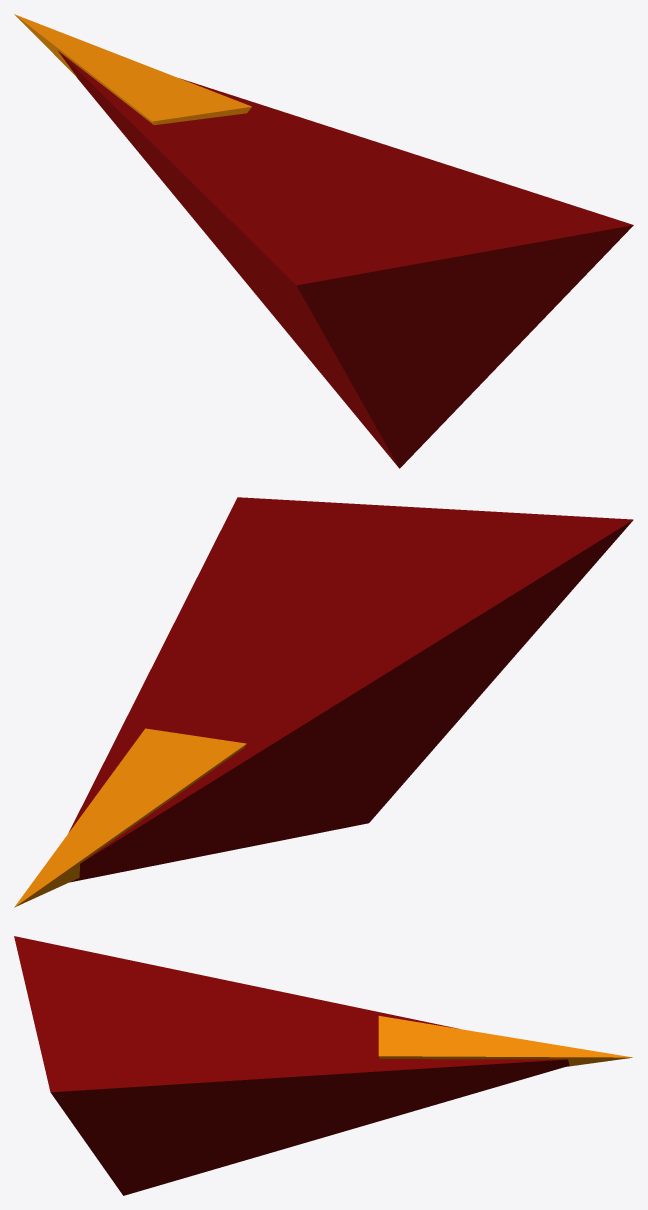
Rendered from shard.glb.
The picture shows the model from 3 angles, top to bottom: view 1: azimuth 30°, elevation 25°; view 2: azimuth 150°, elevation 25°; view 3: azimuth 270°, elevation 25°; orthographic projection. The views are drawn at different scales.
Parts seen in each view (by area): view 1: shard; view 2: shard; view 3: shard.
Part boxes in pixels (x1,y1,x2,y2): shard: (14,14,633,468); shard: (14,497,633,907); shard: (14,936,632,1195).
Size of the model in its own units: 0.4 by 0.3 by 0.85.
